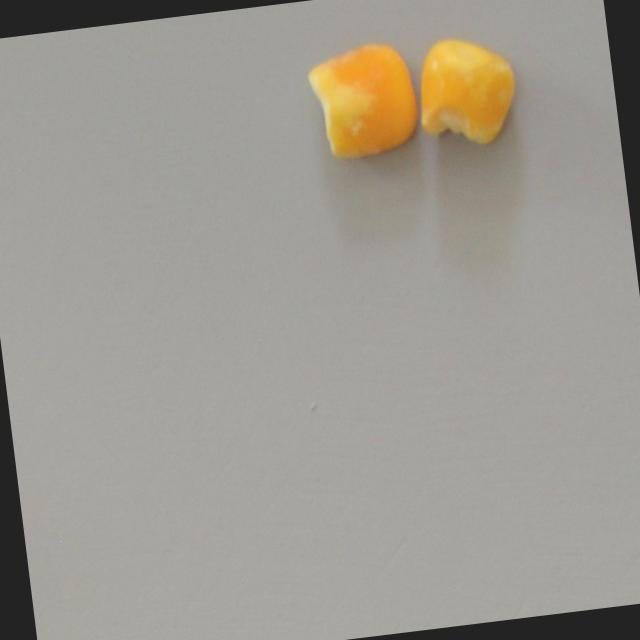no_canjicado: (301, 35, 420, 169)
no_desgerminado: (407, 29, 525, 156)
